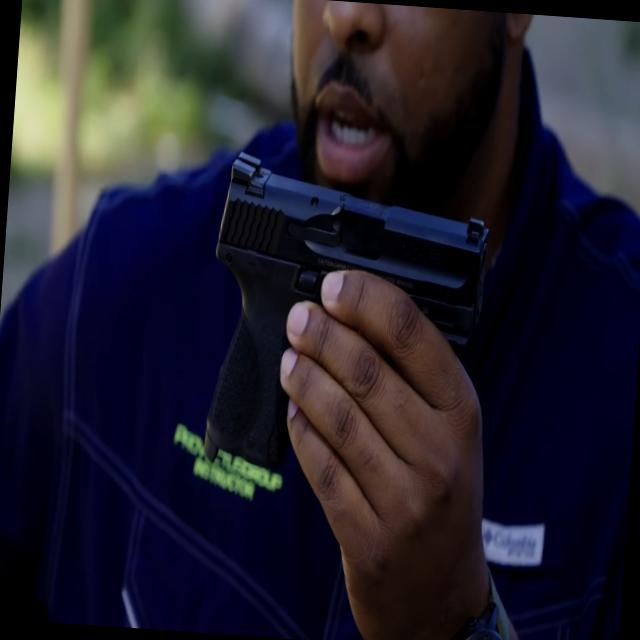handgun: (188, 116, 513, 498)
